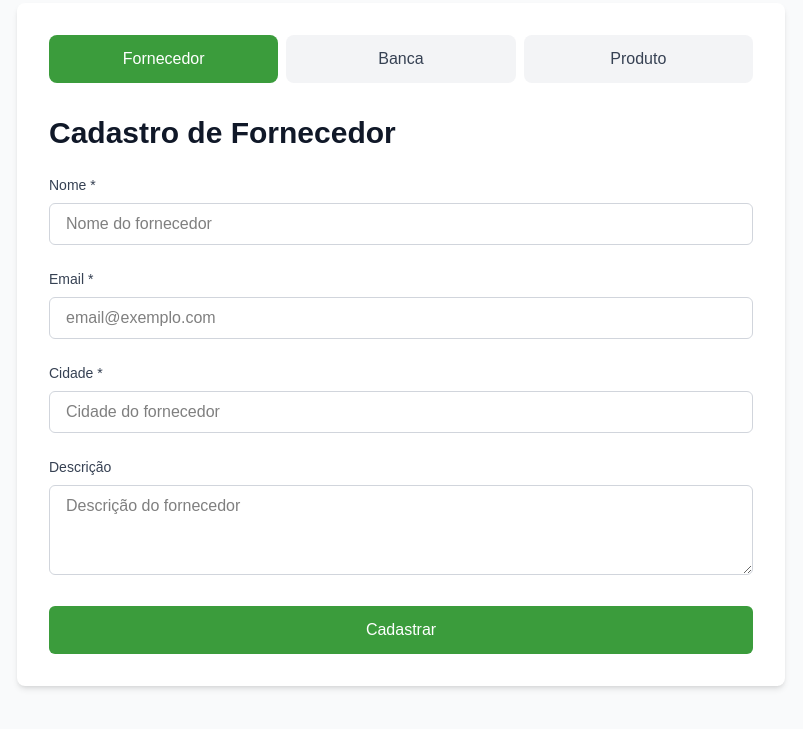
Test: FormCadastro - Testes Completos › Alternância de Abas › deve alternar para aba Banca ao clicar
Click the button "Banca".
click(401, 59)  # box [286,35,516,83]
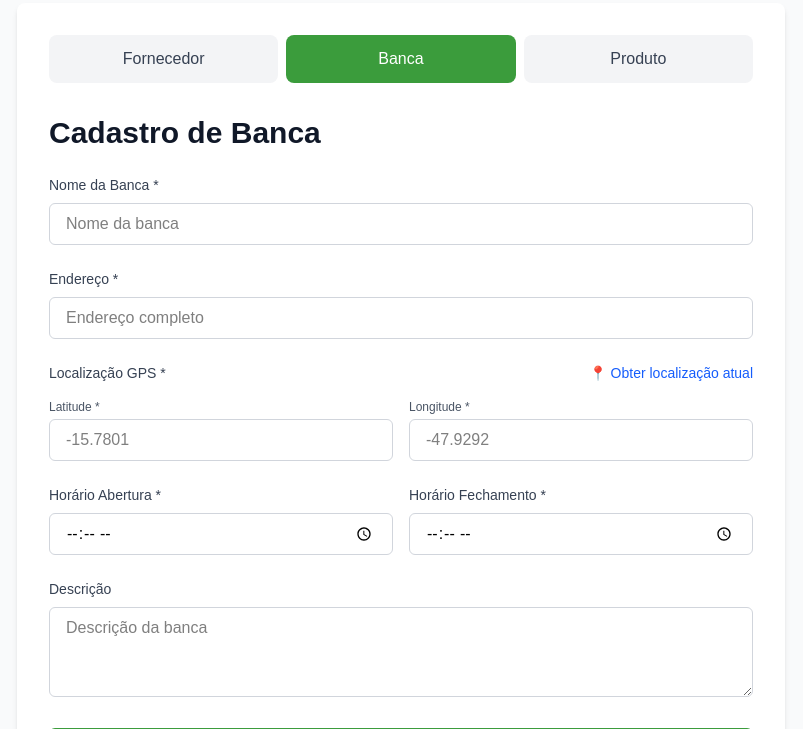
Expected: the field labelled "Nome da Banca *" is shown, [49,203,753,245]
